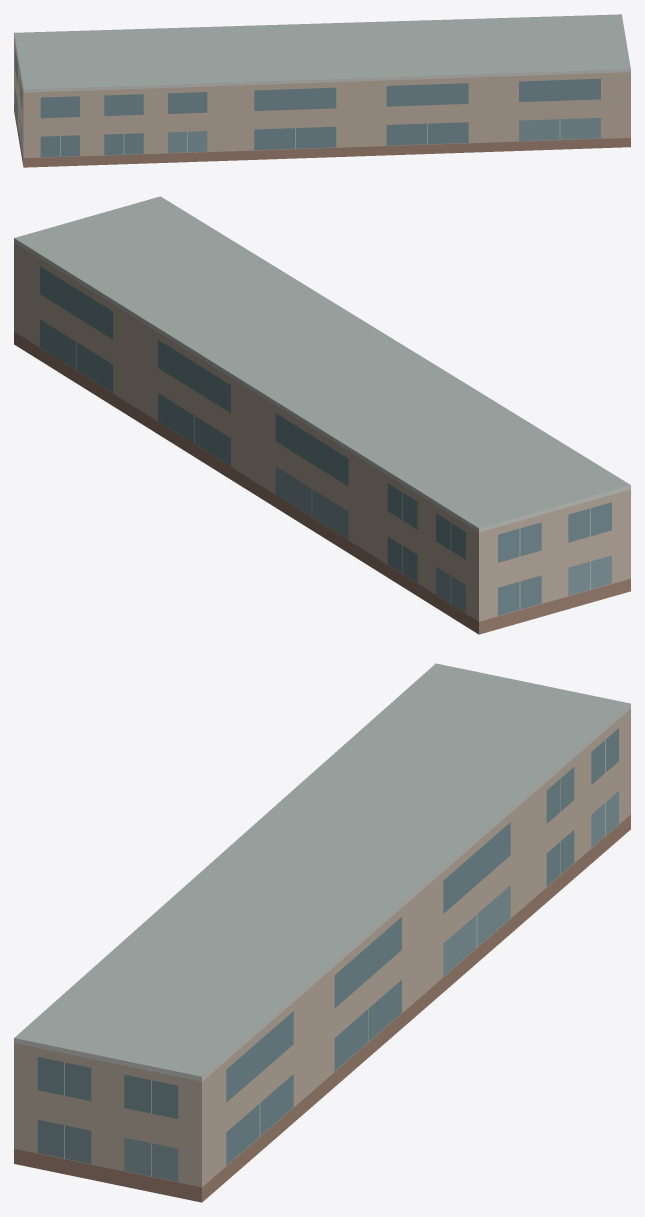
The model's file is survey-upis-32895906.glb.
The picture shows the model from 3 angles, top to bottom: view 1: azimuth 30°, elevation 25°; view 2: azimuth 150°, elevation 25°; view 3: azimuth 270°, elevation 25°; orthographic projection. The views are drawn at different scales.
Parts seen in each view (by area): view 1: survey-upis-32895906.tmp; view 2: survey-upis-32895906.tmp; view 3: survey-upis-32895906.tmp.
Boxes of the visible parts, left/top/right/bottom form: survey-upis-32895906.tmp: left=14, top=14, right=630, bottom=167; survey-upis-32895906.tmp: left=14, top=196, right=630, bottom=634; survey-upis-32895906.tmp: left=14, top=663, right=630, bottom=1202.
Size of the model in its own units: 42.99 by 6.1 by 27.11.
